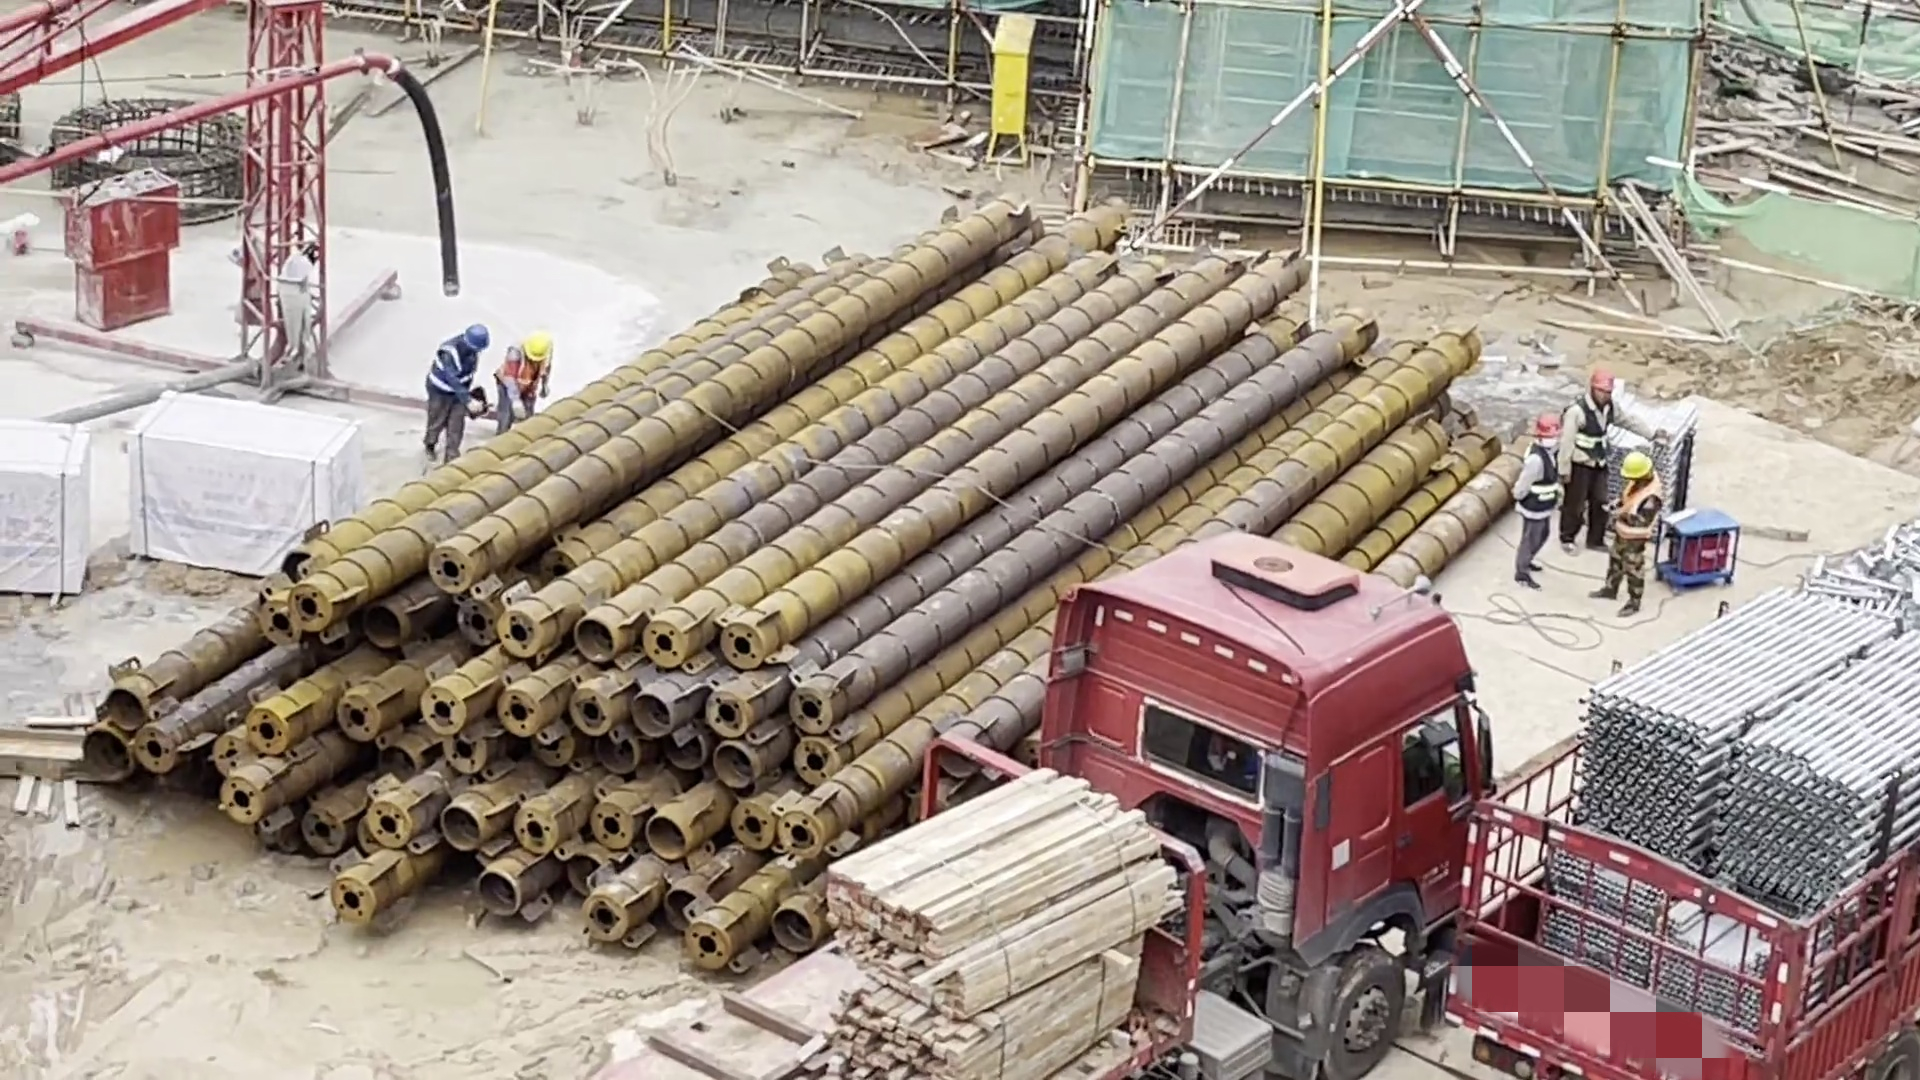ebox: (935, 16, 1049, 189)
helmet: (1585, 363, 1626, 407), (1615, 447, 1655, 484), (525, 330, 555, 362), (1531, 410, 1572, 432), (466, 321, 491, 353)
person: (1587, 441, 1672, 616), (1559, 362, 1626, 561), (416, 316, 490, 468), (1510, 408, 1564, 600), (496, 325, 557, 437)
scaffold: (1566, 578, 1920, 877)
vest: (1610, 473, 1684, 541), (1563, 397, 1619, 477), (1515, 439, 1567, 522), (497, 346, 551, 409), (423, 336, 474, 393)
wood: (851, 784, 1191, 978), (824, 966, 1130, 1080)
